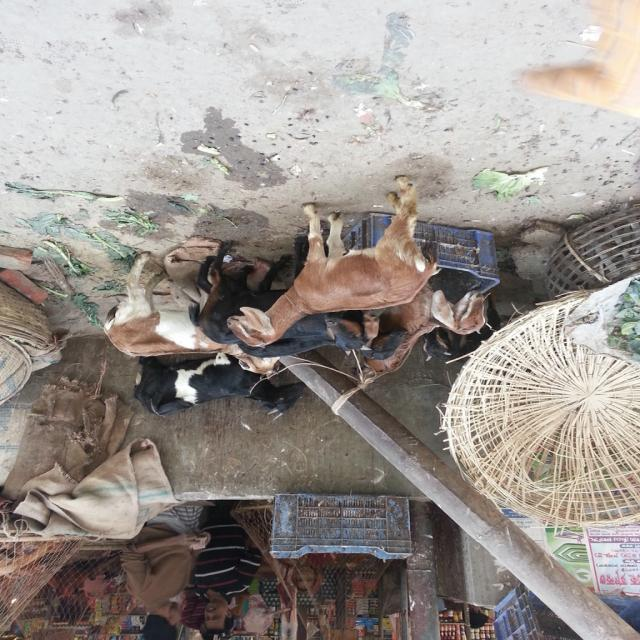Goat: (225, 176, 442, 349), (102, 252, 281, 376), (358, 280, 486, 376), (132, 353, 308, 422), (421, 291, 502, 365)
